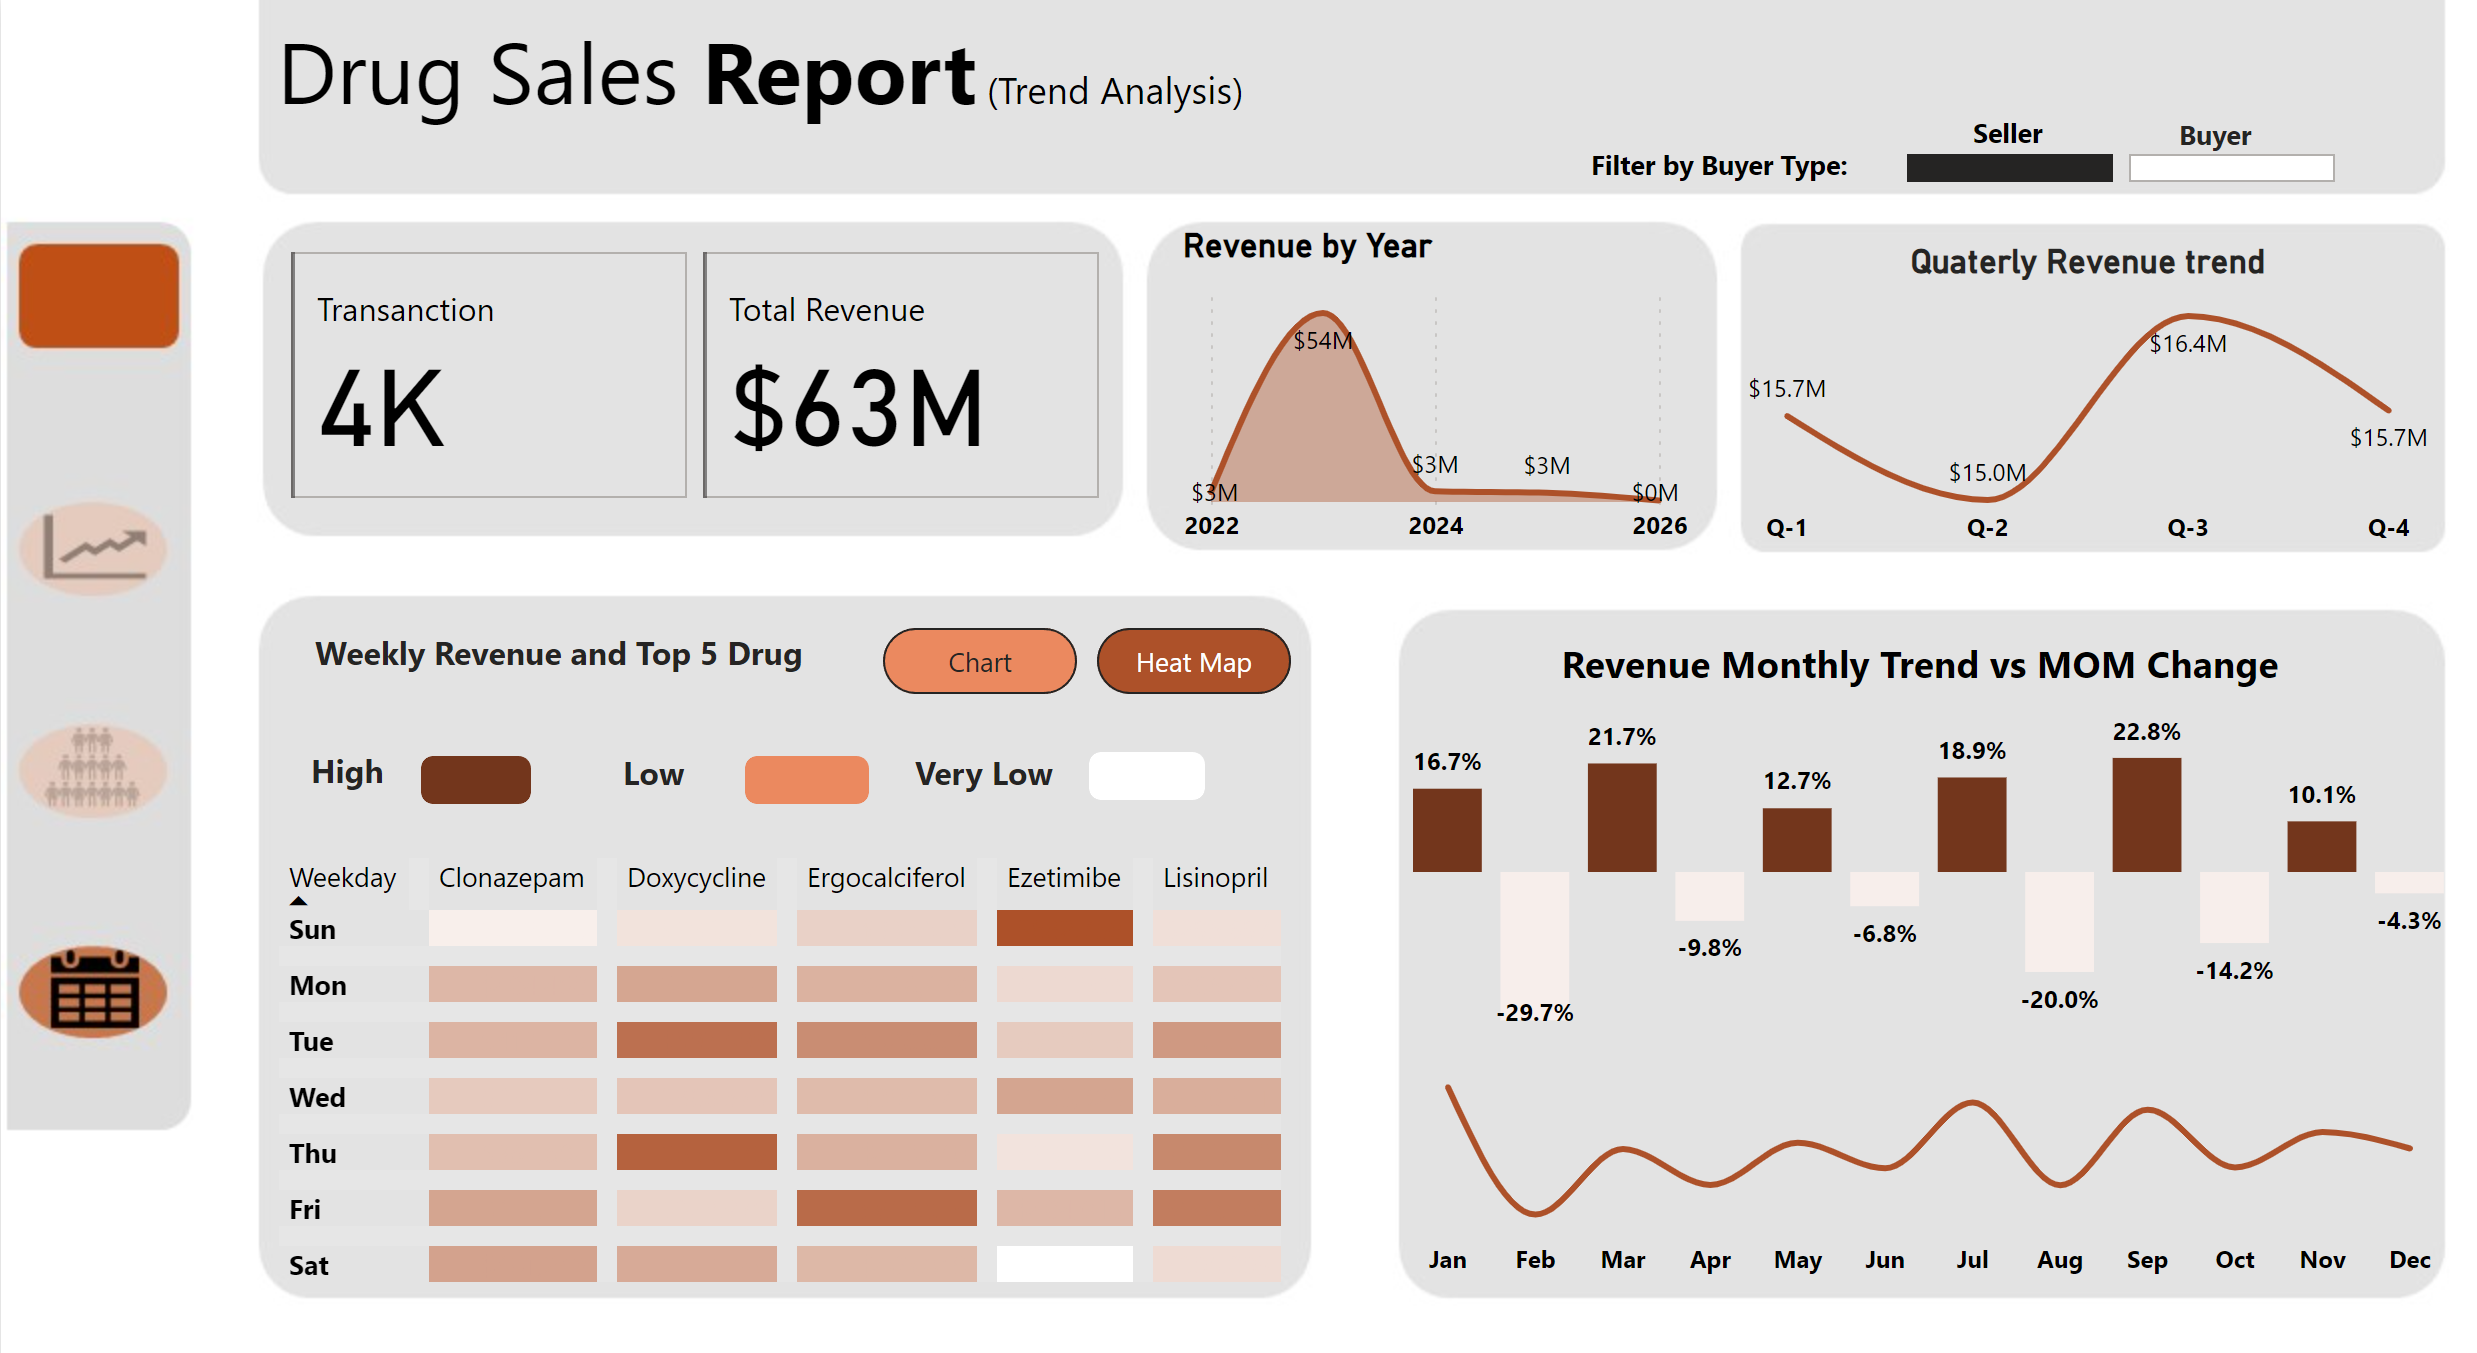

The dashboard page shown, as its layout file describes it:
{"tool":"powerbi","page":{"name":"Trend Analysis","canvas":[1280,720],"ordinal":2},"visuals":[{"type":"textbox","box":[133,2,587,83],"z":0},{"type":"cardVisual","fields":{"Data":["Calculations.Transanction","Calculations.Total Revenue"]},"box":[140,122,414,133],"z":2000},{"type":"advancedSlicerVisual","fields":{"Values":["FactTable.BuyerType"]},"box":[953,78,327,14],"z":3000},{"type":"areaChart","title":"Revenue by Year","fields":{"Category":["Calender.Year"],"Y":["Calculations.Total Revenue"]},"box":[586,114,262,168],"z":4000},{"type":"lineChart","title":"Quaterly Revenue trend","fields":{"Category":["Calender.Qtr"],"Y":["Calculations.Total Revenue"]},"box":[848,122,391,161],"z":5000},{"type":"lineChart","fields":{"Y":["Calculations.Total Revenue"],"Category":["Calender.Month"]},"box":[701,500,526,149],"z":6000},{"type":"columnChart","fields":{"Category":["Calender.Month"],"Y":["Trend.Montht Over Month"]},"box":[701,348,526,170],"z":7000},{"type":"pivotTable","fields":{"Values":["Calculations.Total Revenue"],"Rows":["Calender.Weekday"],"Columns":["DrugLookup.DrugName"]},"box":[134,425,524,226],"z":9000},{"type":"bookmarkNavigator","box":[441,315,205,33],"z":10000},{"type":"shape","box":[209.6,378.7,55,24],"z":11000},{"type":"shape","box":[371.6,378.7,62,24],"z":12000},{"type":"shape","box":[544,377,58,24],"z":13000},{"type":"textbox","box":[306,371,53,35],"z":14000},{"type":"textbox","box":[150,370,67,36],"z":15000},{"type":"textbox","box":[452,371,91.5,34.6],"z":16000},{"type":"textbox","box":[790,69,155,31],"z":17000},{"type":"textbox","box":[981,53,54,32],"z":18000},{"type":"textbox","box":[1084,54,74,31],"z":19000},{"type":"textbox","box":[727,315,465,45],"z":20000},{"type":"textbox","box":[152,311,263,45],"z":22000},{"type":"actionButton","box":[1,255,101,71],"z":23000},{"type":"actionButton","box":[0,371,101,72],"z":24000},{"type":"actionButton","box":[0,482,101,72],"z":25000},{"type":"group","title":"Open/Close","box":[17.4,37,69.3,54.4],"z":26000},{"type":"group","title":"Open/Close","box":[17,57.8,103.8,27.4],"z":27000},{"type":"group","title":"Open/Close","box":[16.4,122,69.3,54.4],"z":28000},{"type":"actionButton","title":"Open T","box":[9,123,77,52],"z":31000}]}

Visuals, with their boxes in screenshot pixels (x1, y1, x2, y2), scaled from the page's 1280x720 canvas onto the 2477x1353 screenshot:
textbox: bbox=[257, 4, 1393, 160]
cardVisual - Calculations.Transanction x Calculations.Total Revenue: bbox=[271, 229, 1072, 479]
advancedSlicerVisual - FactTable.BuyerType: bbox=[1844, 147, 2476, 173]
"Revenue by Year" areaChart: bbox=[1134, 214, 1641, 530]
"Quaterly Revenue trend" lineChart: bbox=[1641, 229, 2398, 532]
lineChart - Calculations.Total Revenue x Calender.Month: bbox=[1357, 940, 2374, 1220]
columnChart - Calender.Month x Trend.Montht Over Month: bbox=[1357, 654, 2374, 973]
pivotTable - Calculations.Total Revenue x Calender.Weekday: bbox=[259, 799, 1273, 1223]
bookmarkNavigator: bbox=[853, 592, 1250, 654]
shape: bbox=[406, 712, 512, 757]
shape: bbox=[719, 712, 839, 757]
shape: bbox=[1053, 708, 1165, 754]
textbox: bbox=[592, 697, 695, 763]
textbox: bbox=[290, 695, 420, 763]
textbox: bbox=[875, 697, 1052, 762]
textbox: bbox=[1529, 130, 1829, 188]
textbox: bbox=[1898, 100, 2003, 160]
textbox: bbox=[2098, 101, 2241, 160]
textbox: bbox=[1407, 592, 2307, 676]
textbox: bbox=[294, 584, 803, 669]
actionButton: bbox=[2, 479, 197, 613]
actionButton: bbox=[0, 697, 195, 832]
actionButton: bbox=[0, 906, 195, 1041]
"Open/Close" group: bbox=[34, 70, 168, 172]
"Open/Close" group: bbox=[33, 109, 234, 160]
"Open/Close" group: bbox=[32, 229, 166, 331]
"Open T" actionButton: bbox=[17, 231, 166, 329]
